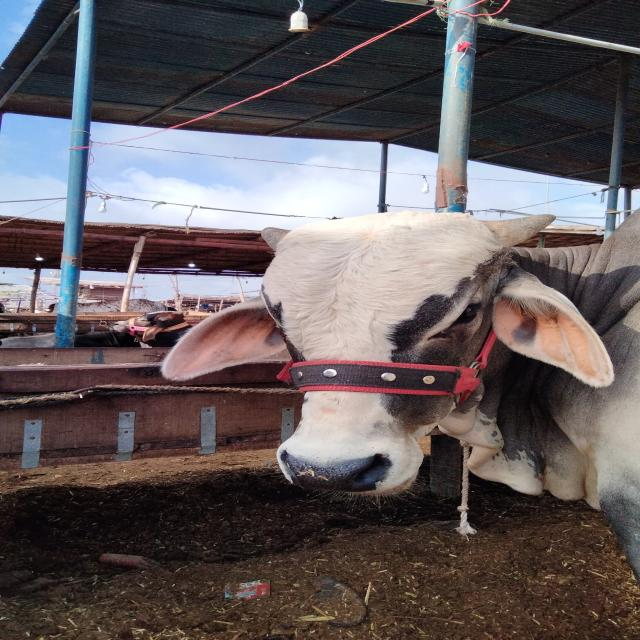muzzles: (268, 442, 414, 494)
